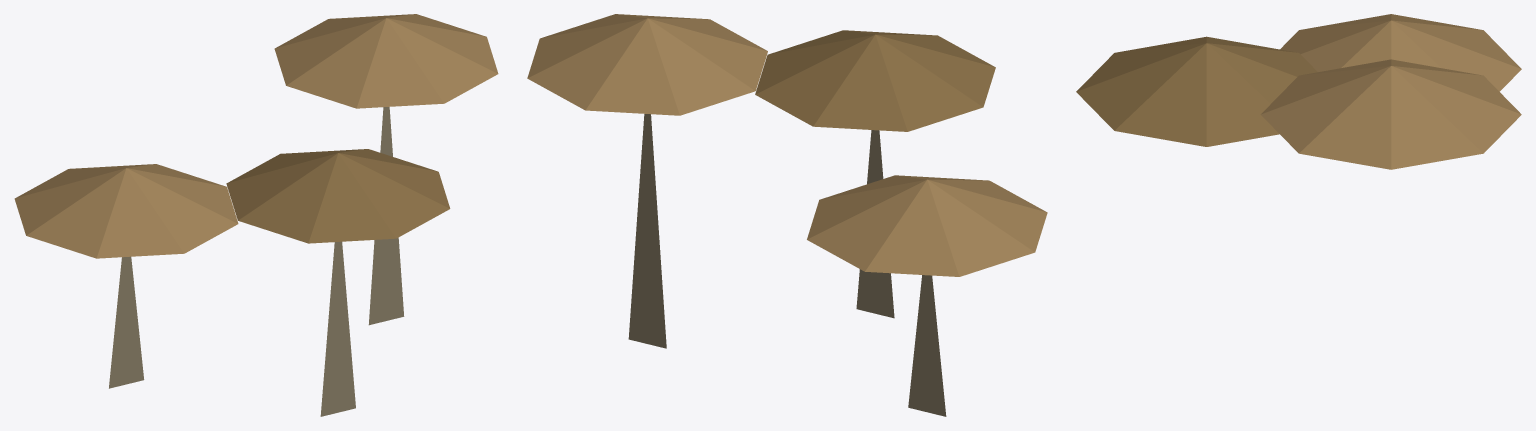
Rendered from jungle-fungi.glb.
3 views of the same model, side by side, from view 1: azimuth 30°, elevation 25°; view 2: azimuth 150°, elevation 25°; view 3: azimuth 270°, elevation 25° (orthographic). The views are drawn at different scales.
Parts seen in each view (by area): view 1: Лесные грибы; view 2: Лесные грибы; view 3: Лесные грибы.
Part boxes in pixels (x1=…): Лесные грибы: x1=14, y1=14, x2=498, y2=416; Лесные грибы: x1=527, y1=14, x2=1047, y2=416; Лесные грибы: x1=1076, y1=14, x2=1521, y2=169.
Size of the model in its own units: 0.39 by 0.245 by 0.29.
